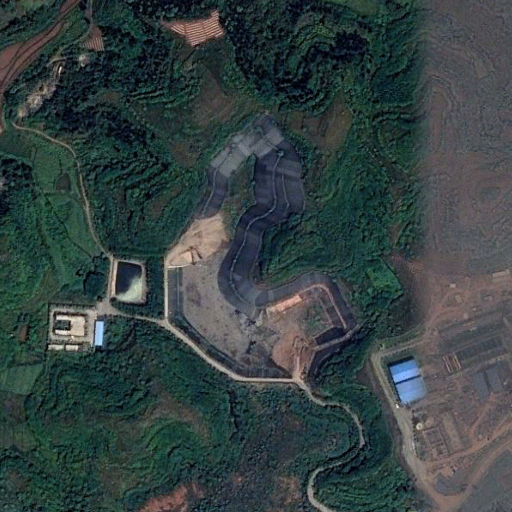lf: (165, 112, 358, 384)
